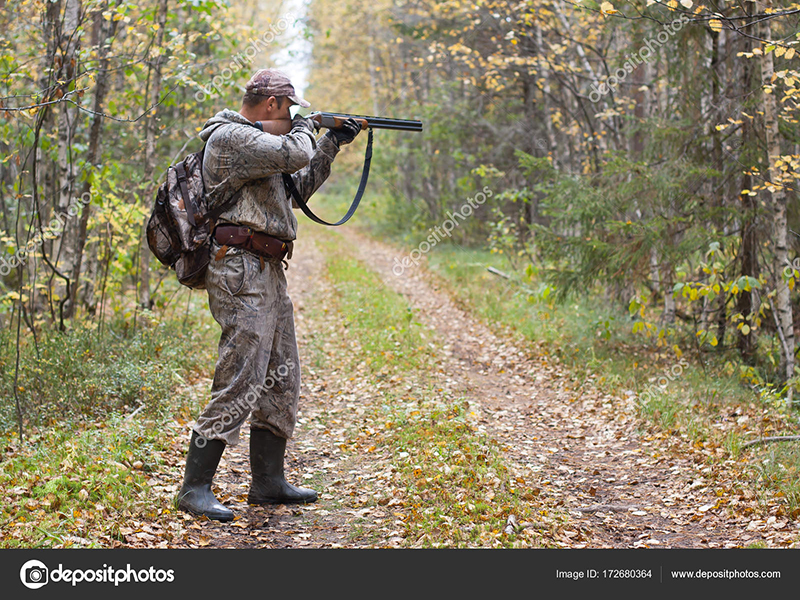cacciatore: (156, 70, 432, 527)
fucile: (244, 104, 422, 129)
